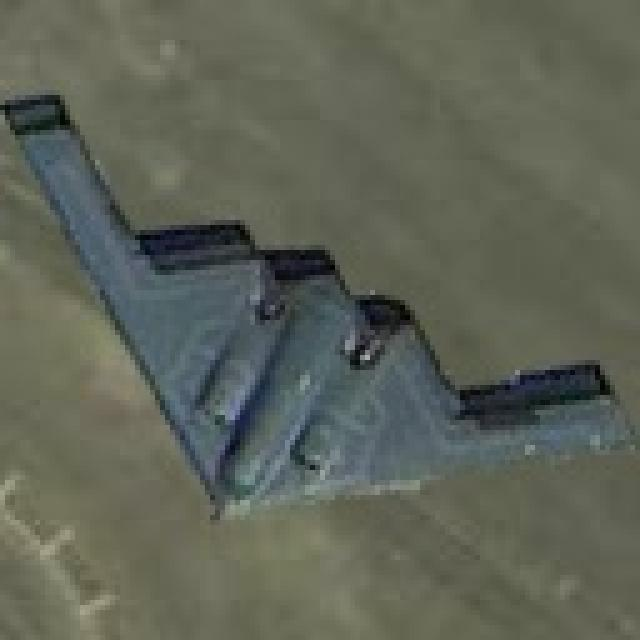B-2_TopDown: (0, 80, 635, 525)
